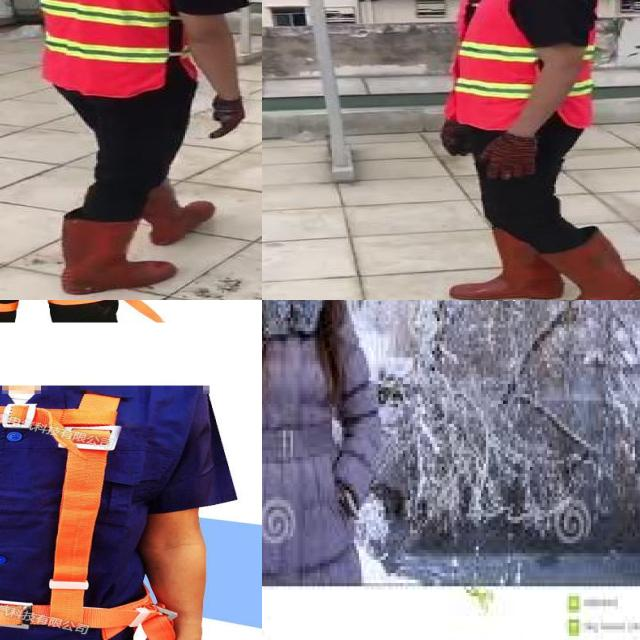Harness: (0, 390, 141, 623)
boots: (60, 213, 174, 296), (451, 229, 563, 300), (540, 232, 640, 300), (141, 183, 215, 246)
hand_glove: (480, 131, 540, 183), (208, 97, 247, 137), (440, 117, 472, 157)
person: (26, 0, 262, 300), (428, 0, 640, 300), (262, 300, 370, 584)
vest: (447, 0, 602, 130), (32, 0, 188, 98)
